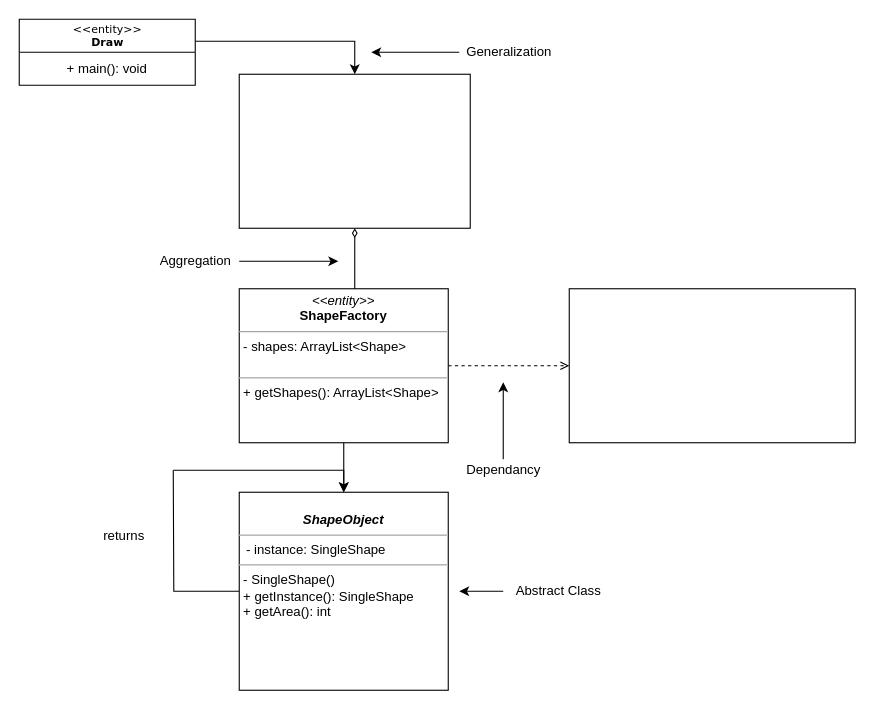
The diagram is 875 pixels wide and 710 high, and some of its shapes have lost their labels. The shapes that lost their labels are listed below. From the top down, each one's centre as x and y in pixels, then its label:
At (354,150): "<<entity>> Display - shapes: ArrayList<Shape> + paintComponent(Graphics): void".
At (711,365): "<<entity>> SortingTechnique + sortShapes(List<Shape>): ArrayList<Shape>".
